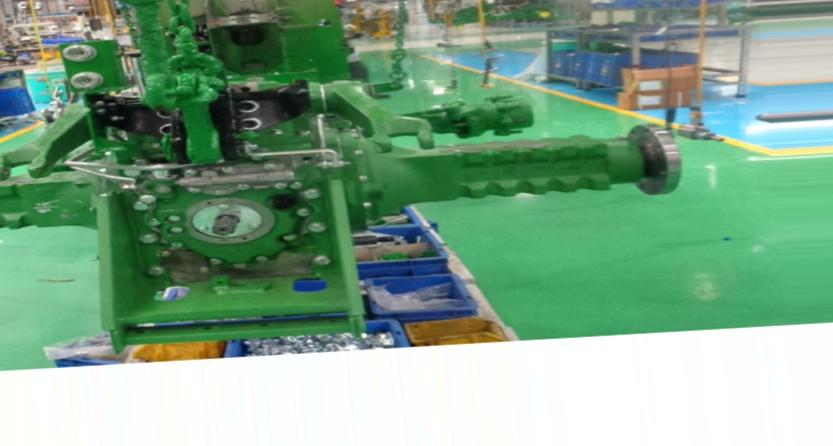engine: (2, 0, 685, 343)
